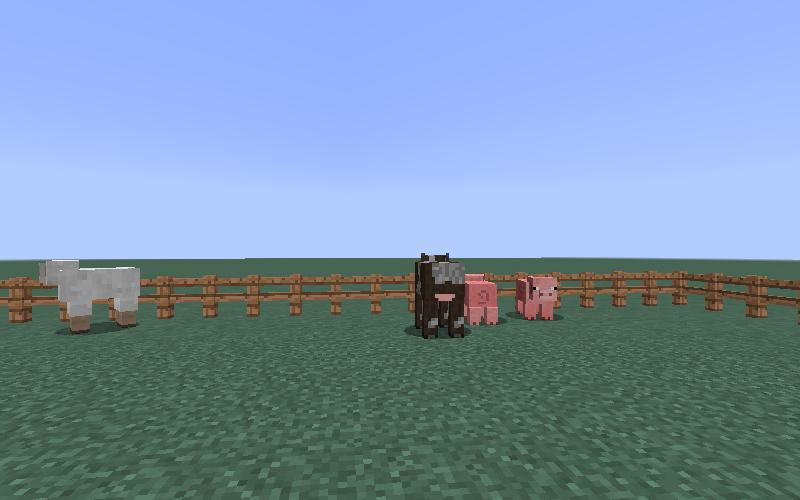cow: (409, 251, 469, 344)
pig: (509, 265, 561, 333), (464, 274, 498, 326)
sheep: (36, 250, 143, 338)
